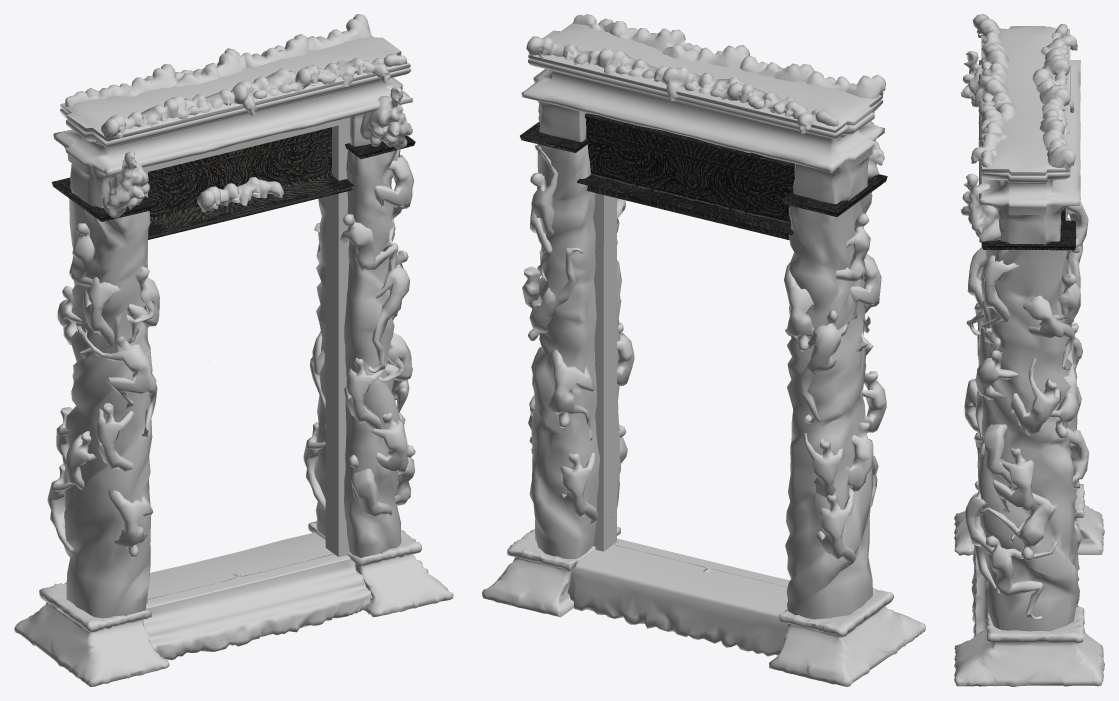
Rendered from sm0906_m14finaldoor.fbx.
The picture shows the model from 3 angles, left to right: view 1: azimuth 30°, elevation 25°; view 2: azimuth 150°, elevation 25°; view 3: azimuth 270°, elevation 25°; orthographic projection. The views are drawn at different scales.
Visible parts, largest first — view 1: LOD_1_Group_0_Sub_1__sm0906_m14finaldoor_B_Mat, LOD_1_Group_0_Sub_3__sm0906_m14finaldoor_AF_Mat, LOD_1_Group_0_Sub_2__sm0906_m14finaldoor_C_Mat; view 2: LOD_1_Group_0_Sub_1__sm0906_m14finaldoor_B_Mat, LOD_1_Group_0_Sub_3__sm0906_m14finaldoor_AF_Mat, LOD_1_Group_0_Sub_2__sm0906_m14finaldoor_C_Mat; view 3: LOD_1_Group_0_Sub_1__sm0906_m14finaldoor_B_Mat, LOD_1_Group_0_Sub_3__sm0906_m14finaldoor_AF_Mat, LOD_1_Group_0_Sub_2__sm0906_m14finaldoor_C_Mat.
Boxes of the visible parts, x1=… form: LOD_1_Group_0_Sub_1__sm0906_m14finaldoor_B_Mat: x1=47, y1=14, x2=415, y2=618; LOD_1_Group_0_Sub_3__sm0906_m14finaldoor_AF_Mat: x1=14, y1=35, x2=453, y2=686; LOD_1_Group_0_Sub_2__sm0906_m14finaldoor_C_Mat: x1=51, y1=127, x2=415, y2=239; LOD_1_Group_0_Sub_1__sm0906_m14finaldoor_B_Mat: x1=522, y1=14, x2=886, y2=619; LOD_1_Group_0_Sub_3__sm0906_m14finaldoor_AF_Mat: x1=482, y1=23, x2=925, y2=686; LOD_1_Group_0_Sub_2__sm0906_m14finaldoor_C_Mat: x1=520, y1=113, x2=887, y2=240; LOD_1_Group_0_Sub_1__sm0906_m14finaldoor_B_Mat: x1=960, y1=14, x2=1089, y2=631; LOD_1_Group_0_Sub_3__sm0906_m14finaldoor_AF_Mat: x1=954, y1=26, x2=1104, y2=686; LOD_1_Group_0_Sub_2__sm0906_m14finaldoor_C_Mat: x1=981, y1=207, x2=1075, y2=250.
Bounding box in the file's own units: 661 × 954 × 248.
